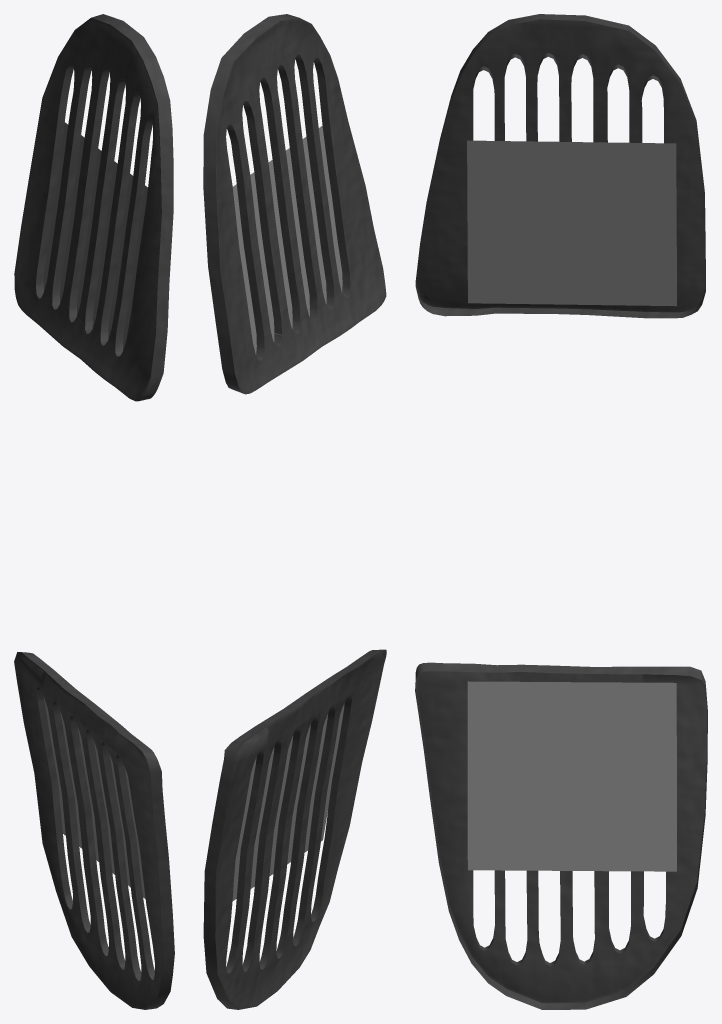
The model's file is cowlgrill.gltf.
3 views of the same model, side by side, from view 1: azimuth 30°, elevation 25°; view 2: azimuth 150°, elevation 25°; view 3: azimuth 270°, elevation 25° (orthographic). The views are drawn at different scales.
Parts seen in each view (by area): view 1: cowlgrill, cowlgrillplate; view 2: cowlgrill, cowlgrillplate; view 3: cowlgrillplate, cowlgrill.
Boxes of the visible parts, <box> form: cowlgrill: <box>14,14,174,1009</box>; cowlgrillplate: <box>43,122,147,898</box>; cowlgrill: <box>203,14,386,1009</box>; cowlgrillplate: <box>232,125,344,900</box>; cowlgrillplate: <box>467,140,677,871</box>; cowlgrill: <box>415,14,707,1009</box>.
Size of the model in its own units: 0.0553 by 0.7999 by 0.2144.
Materials: 2 (1 with a texture image).
